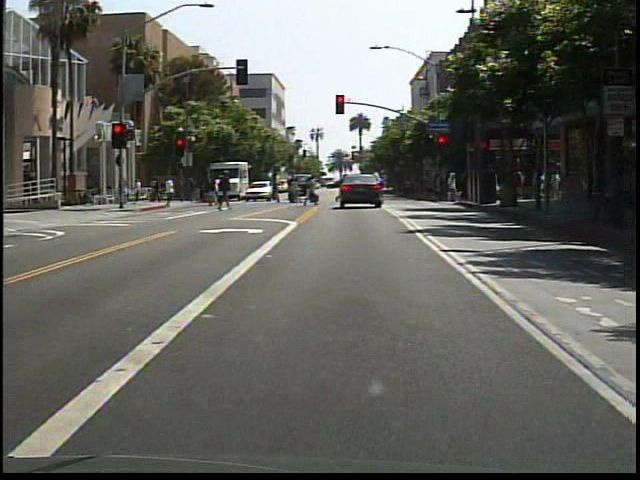person: (357, 164, 379, 210), (216, 170, 238, 213), (303, 173, 322, 210), (163, 176, 180, 210)
